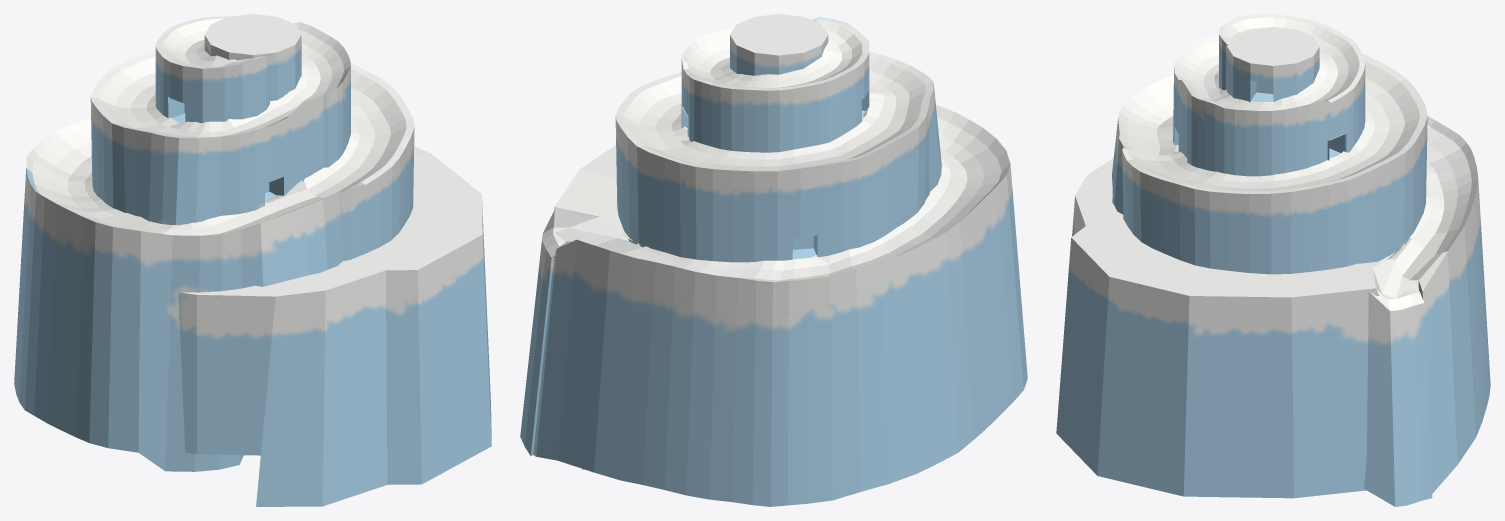
File: Level3UPGRADE.fbx
3 renders of one model, left to right at view 1: azimuth 30°, elevation 25°; view 2: azimuth 150°, elevation 25°; view 3: azimuth 270°, elevation 25°, orthographic. The views are drawn at different scales.
Visible parts, largest first — view 1: BodenWELT3; view 2: BodenWELT3; view 3: BodenWELT3.
Boxes of the visible parts, x1,y1,x2,y2 form: BodenWELT3: (14, 14, 491, 506); BodenWELT3: (520, 14, 1027, 506); BodenWELT3: (1056, 14, 1490, 506).
Size of the model in its own units: 15727 by 15014 by 15544.
